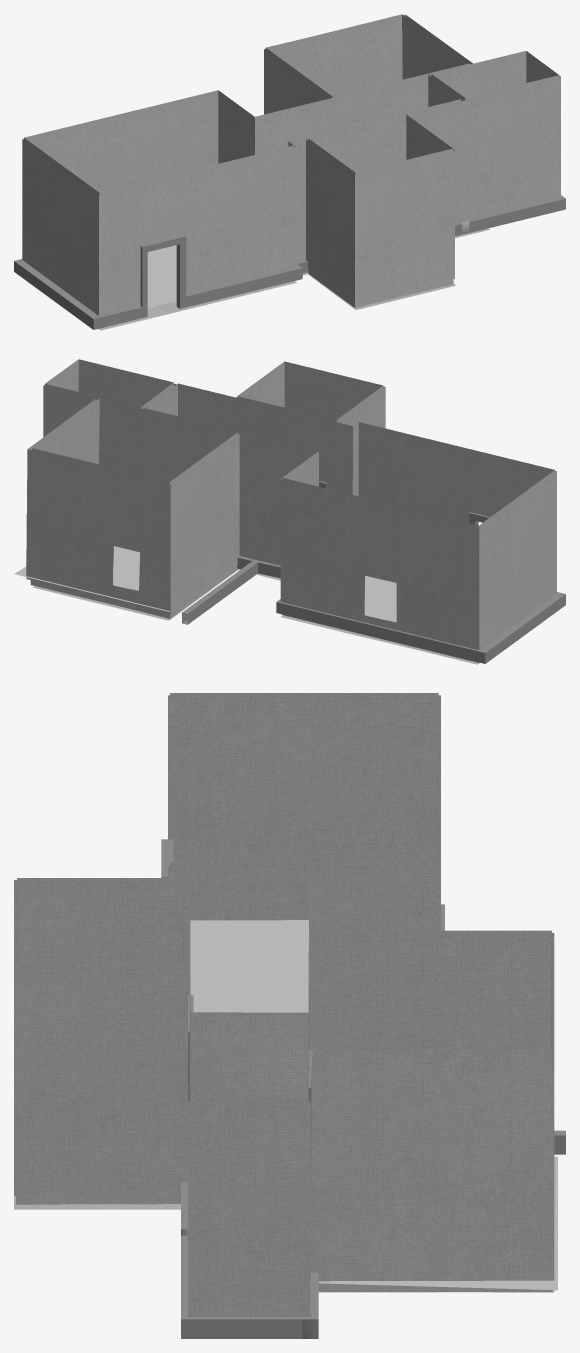
Rendered from Layoutfin (2).fbx.
3 renders of one model, top to bottom at view 1: azimuth 30°, elevation 25°; view 2: azimuth 150°, elevation 25°; view 3: azimuth 270°, elevation 25°, orthographic. The views are drawn at different scales.
Parts seen in each view (by area): view 1: Plane007, Box016, Object010; view 2: Plane007, Box016, Object010; view 3: Plane007, Object010, Box016.
Boxes of the visible parts, box(x1,y1,x2,y2) form: Plane007: box(22, 14, 560, 330); Box016: box(14, 195, 565, 329); Object010: box(147, 245, 176, 308); Plane007: box(26, 359, 556, 664); Box016: box(182, 481, 565, 663); Object010: box(14, 546, 396, 622); Plane007: box(14, 693, 554, 1316); Object010: box(190, 920, 557, 1290); Box016: box(161, 839, 565, 1338).
Size of the model in its own units: 489 by 134 by 275.
